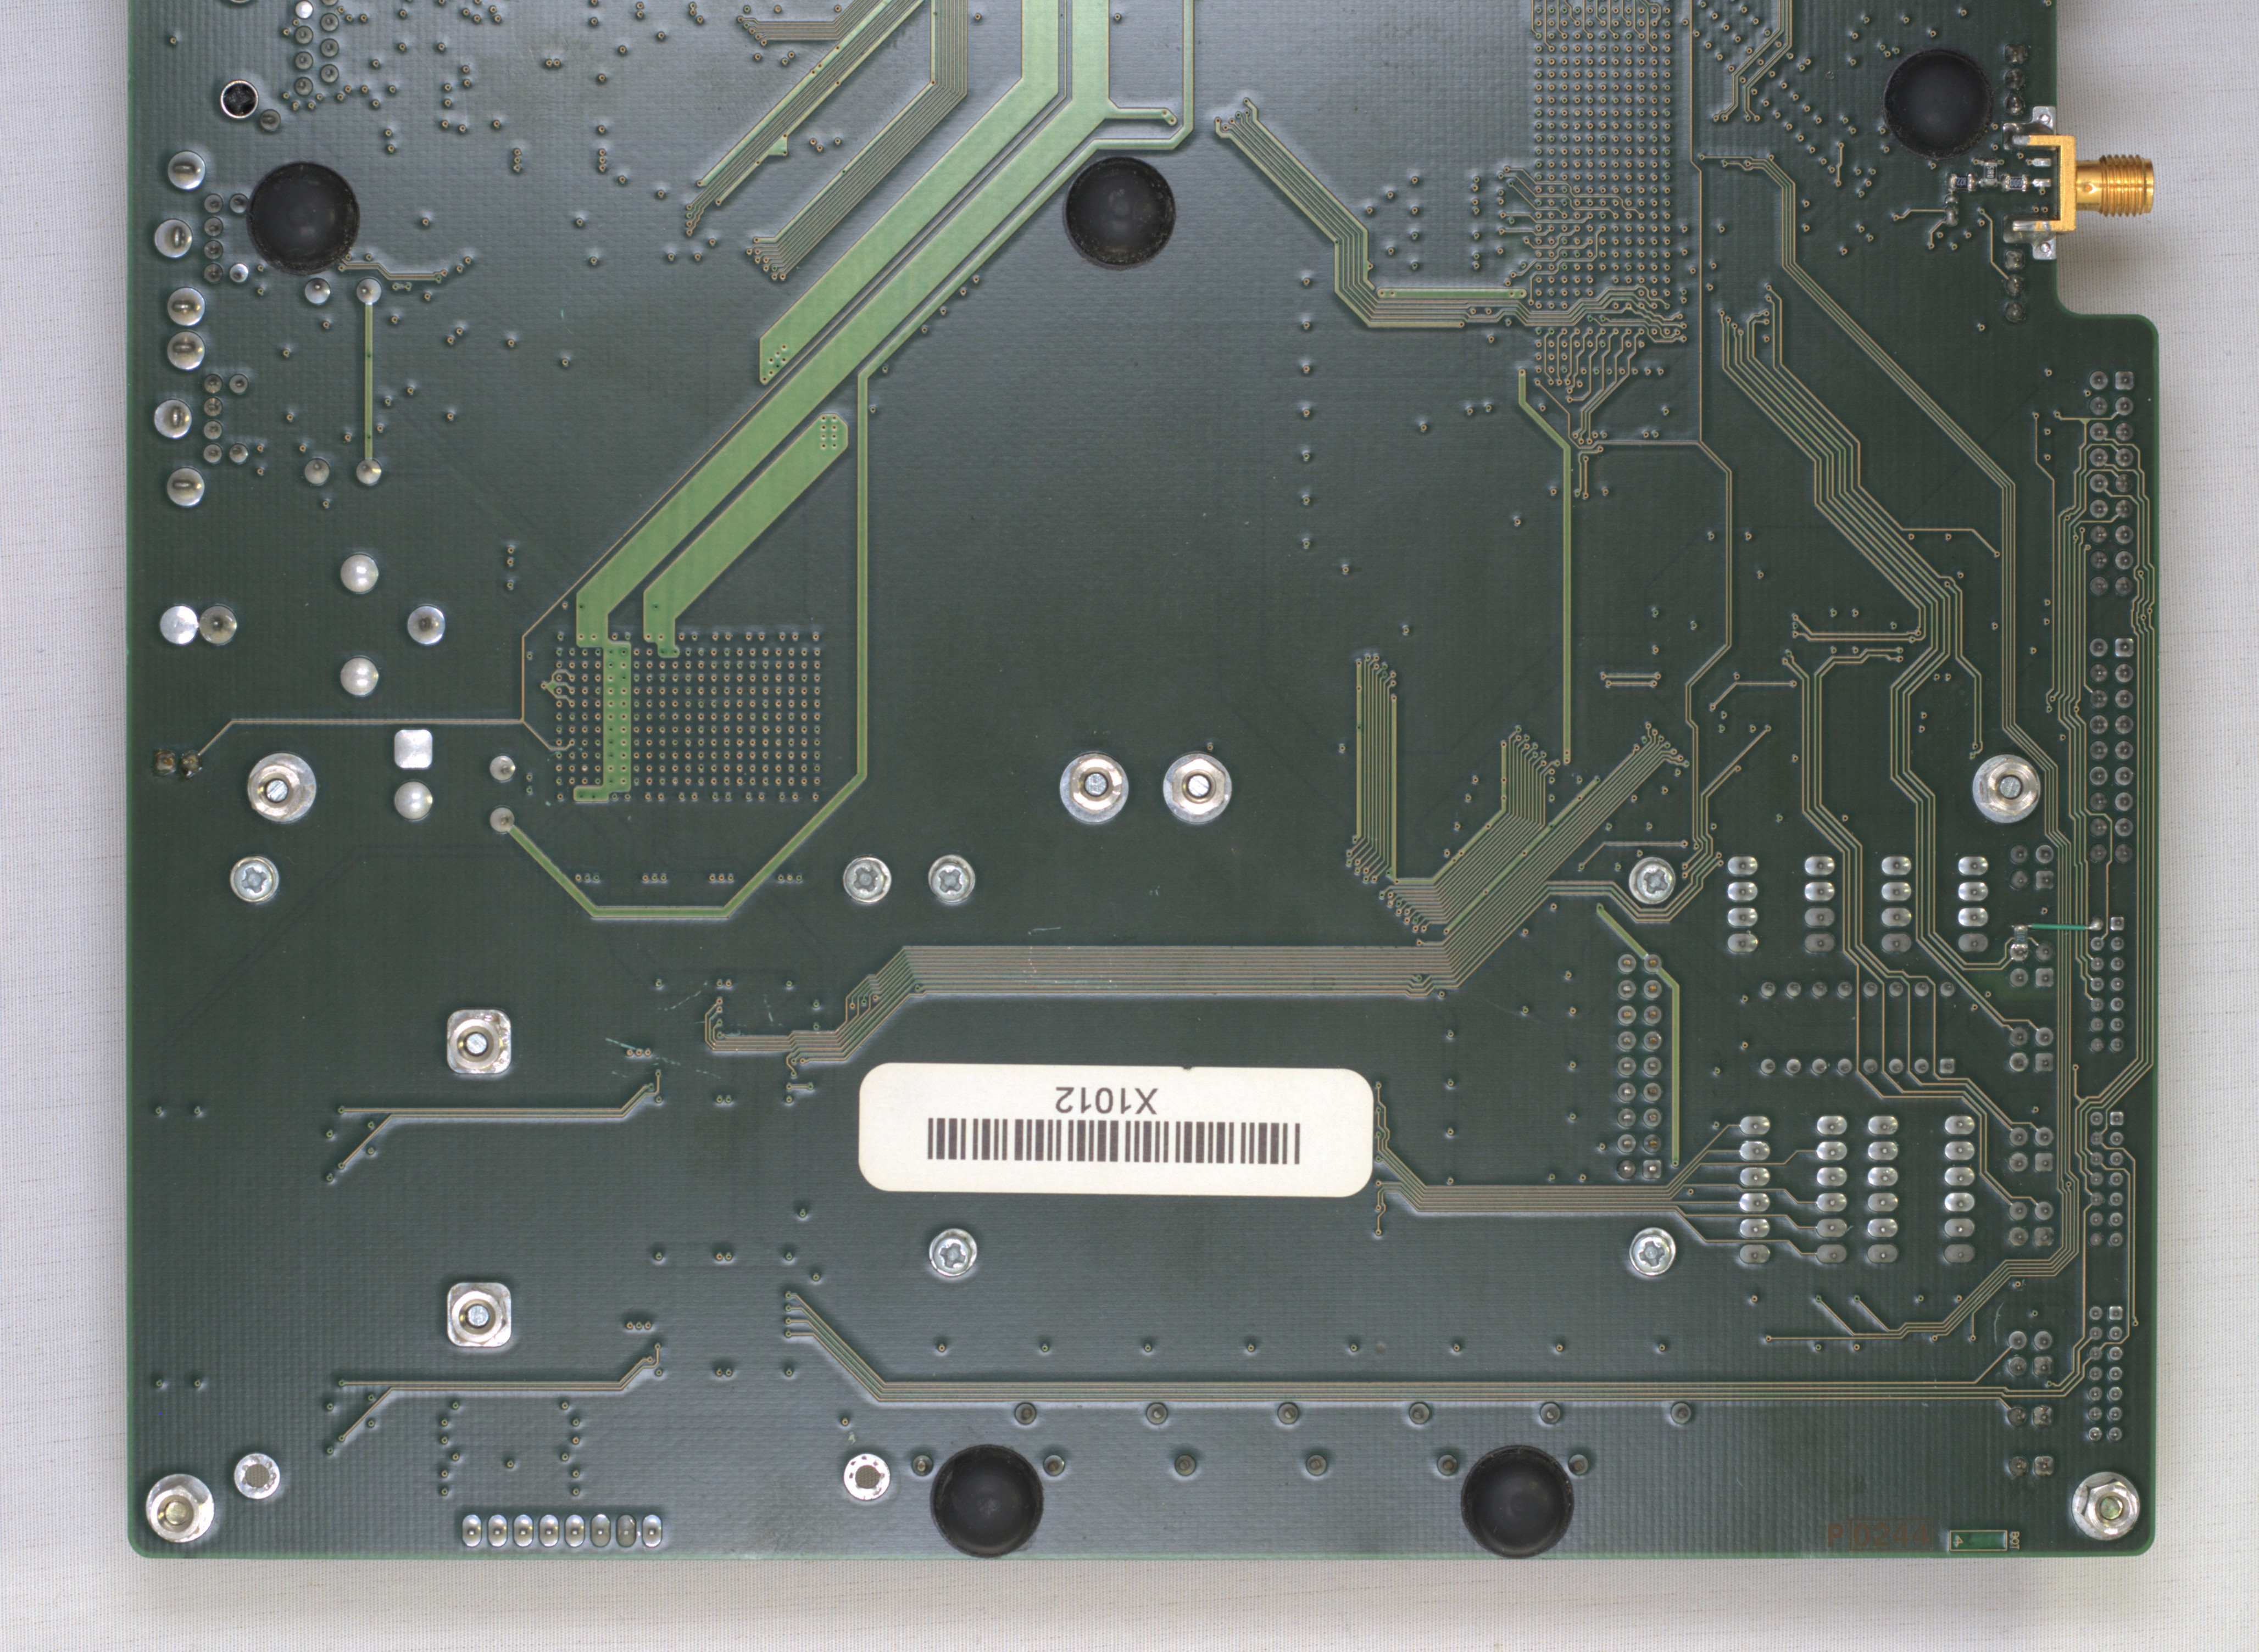component text" 000: (2008, 177, 2024, 188)
component text" 102: (2015, 931, 2026, 943)
component text" 22R: (1956, 177, 1968, 186)
component text" 51R0: (1985, 163, 1994, 179)
connector unknown: (1999, 102, 2157, 265)
pins unknown: (901, 1398, 1703, 1480), (1750, 975, 1966, 1080), (151, 147, 209, 519), (302, 275, 384, 489), (333, 547, 447, 698), (1814, 1112, 1901, 1266), (2085, 635, 2138, 866), (1722, 852, 1840, 956), (1877, 852, 1992, 956), (1614, 951, 1664, 1184), (2085, 368, 2136, 600), (451, 1506, 670, 1550), (1940, 1112, 1980, 1266), (2084, 1303, 2126, 1447), (1736, 1114, 1775, 1266), (2087, 912, 2127, 1057), (386, 721, 440, 828), (2087, 1108, 2127, 1249), (200, 372, 256, 468), (198, 191, 253, 286), (151, 596, 246, 651), (293, 0, 342, 100), (2003, 1401, 2057, 1478), (486, 749, 526, 838), (2005, 842, 2057, 893), (2005, 1329, 2056, 1380), (2006, 1200, 2057, 1250), (2008, 938, 2057, 989), (2006, 1024, 2056, 1073), (2006, 1126, 2057, 1173), (2001, 40, 2027, 119), (2001, 249, 2027, 324), (256, 105, 284, 133)
resistor unknown: (1980, 160, 1999, 186), (1949, 174, 1973, 193), (2003, 174, 2027, 191), (2013, 922, 2027, 951)
text 4: (1952, 1533, 1964, 1549)
text BOT: (2010, 1529, 2020, 1552)
text P0244: (1824, 1515, 1931, 1552)
text X1012: (1052, 1084, 1163, 1119)
